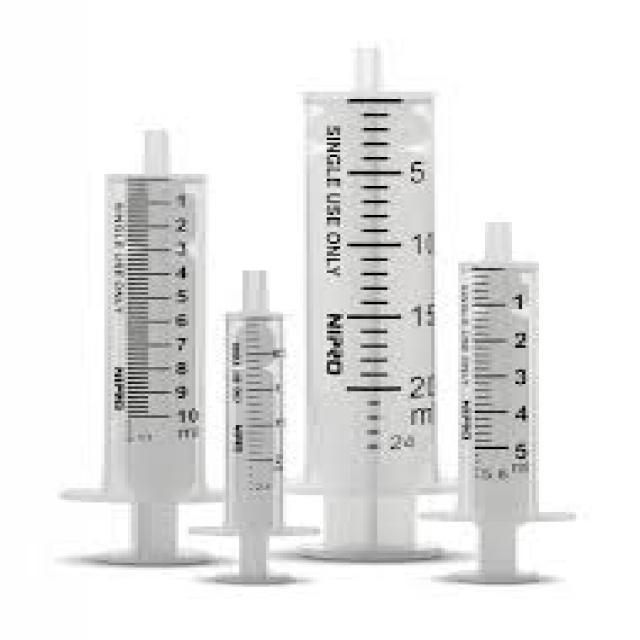syringe: (84, 87, 580, 593)
